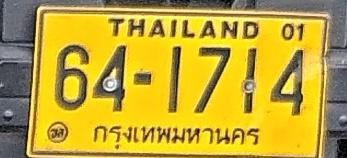1: (241, 46, 257, 114), (168, 46, 182, 112)
4: (270, 48, 304, 116), (92, 44, 126, 111)
6: (56, 44, 89, 110)
7: (194, 46, 230, 113)
BKK: (93, 123, 259, 150)
